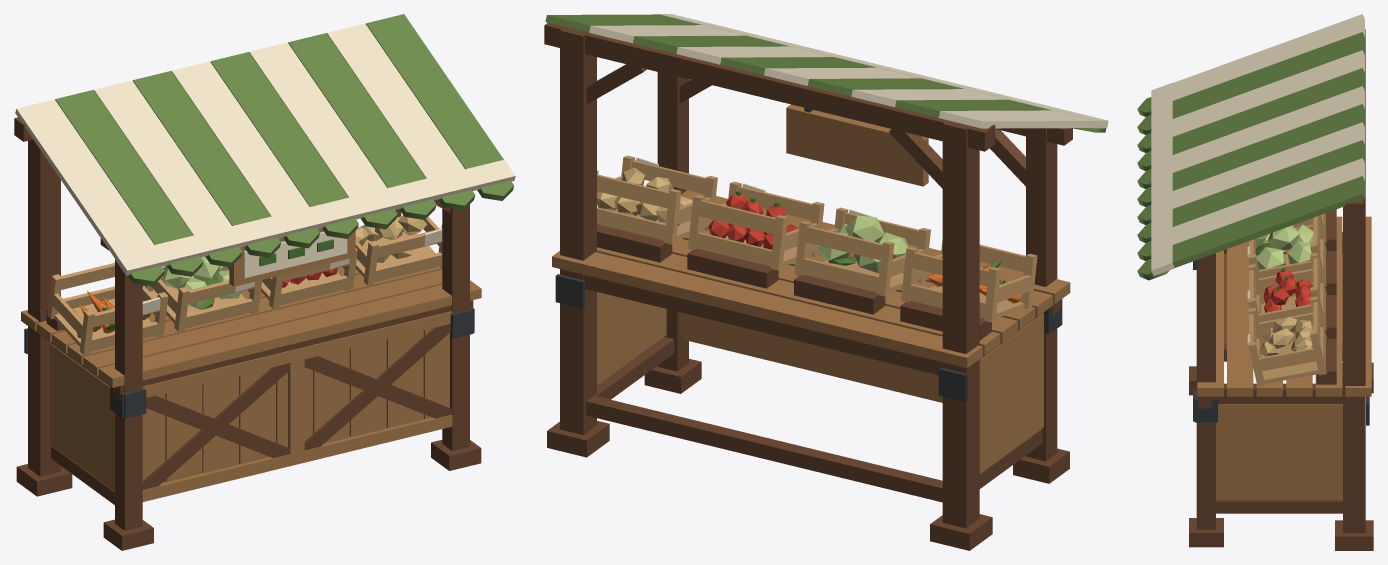
The model's file is market-stall.m1.clunk-optimized.glb.
3 renders of one model, left to right at view 1: azimuth 30°, elevation 25°; view 2: azimuth 150°, elevation 25°; view 3: azimuth 270°, elevation 25°, orthographic. The views are drawn at different scales.
Parts seen in each view (by area): view 1: awning_canvas_cream, awning_canvas_green, counter_front_apron, frame_timber, counter_deck_planks, counter_x_braces, awning_valance_band, counter_side_panels, awning_scallop_fringe, crate_slot_carrots_shell, crate_slot_cabbages_shell, crate_slot_potatoes_shell (+7 smaller); view 2: frame_timber, counter_deck_planks, counter_side_panels, awning_canvas_cream, awning_canvas_green, counter_front_apron, crate_risers, sign_board, crate_slot_tomatoes_shell, crate_slot_cabbages_shell, counter_frame_rails, crate_slot_potatoes_shell (+6 smaller); view 3: awning_canvas_green, awning_canvas_cream, frame_timber, counter_side_panels, counter_deck_planks, awning_valance_band, crate_slot_potatoes_shell, crate_slot_tomatoes_shell, awning_scallop_fringe, crate_risers, produce_cabbages, produce_potatoes (+4 smaller).
Boxes of the visible parts, <box> form: awning_canvas_cream: <box>15,23,464,257</box>; awning_canvas_green: <box>55,14,503,244</box>; counter_front_apron: <box>142,311,452,501</box>; frame_timber: <box>14,117,481,550</box>; counter_deck_planks: <box>21,266,481,387</box>; counter_x_braces: <box>142,324,451,489</box>; awning_valance_band: <box>115,159,515,275</box>; counter_side_panels: <box>49,343,114,491</box>; awning_scallop_fringe: <box>127,180,513,286</box>; crate_slot_carrots_shell: <box>47,263,168,354</box>; crate_slot_cabbages_shell: <box>144,267,262,331</box>; crate_slot_potatoes_shell: <box>355,216,442,285</box>; frame_timber: <box>544,23,1072,550</box>; counter_deck_planks: <box>552,190,1070,367</box>; counter_side_panels: <box>597,292,1043,473</box>; awning_canvas_cream: <box>589,25,1095,128</box>; awning_canvas_green: <box>545,14,1051,117</box>; counter_front_apron: <box>680,312,942,402</box>; crate_risers: <box>597,224,991,340</box>; sign_board: <box>786,104,928,186</box>; crate_slot_tomatoes_shell: <box>688,181,824,270</box>; crate_slot_cabbages_shell: <box>794,207,930,296</box>; counter_frame_rails: <box>584,275,1060,375</box>; crate_slot_potatoes_shell: <box>597,155,717,244</box>; awning_canvas_green: <box>1172,32,1364,267</box>; awning_canvas_cream: <box>1172,14,1364,244</box>; frame_timber: <box>1189,29,1373,550</box>; counter_side_panels: <box>1216,253,1342,499</box>; counter_deck_planks: <box>1197,216,1371,396</box>; awning_valance_band: <box>1151,83,1174,275</box>; crate_slot_potatoes_shell: <box>1248,296,1326,386</box>; crate_slot_tomatoes_shell: <box>1248,252,1326,341</box>; awning_scallop_fringe: <box>1137,97,1169,280</box>; crate_risers: <box>1316,209,1336,384</box>; produce_cabbages: <box>1255,224,1313,269</box>; produce_potatoes: <box>1259,316,1313,356</box>.
Bounding box in the file's own units: 2.44 × 2.26 × 1.34.
